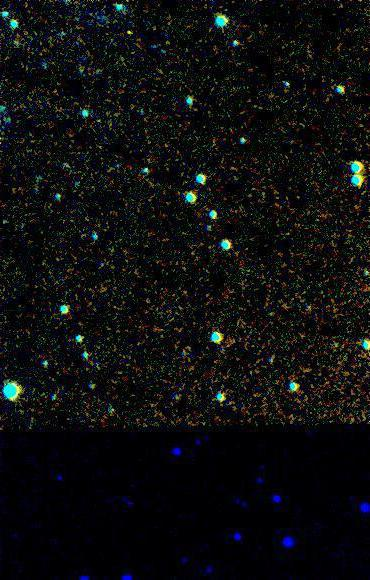star: (114, 16, 144, 46)
